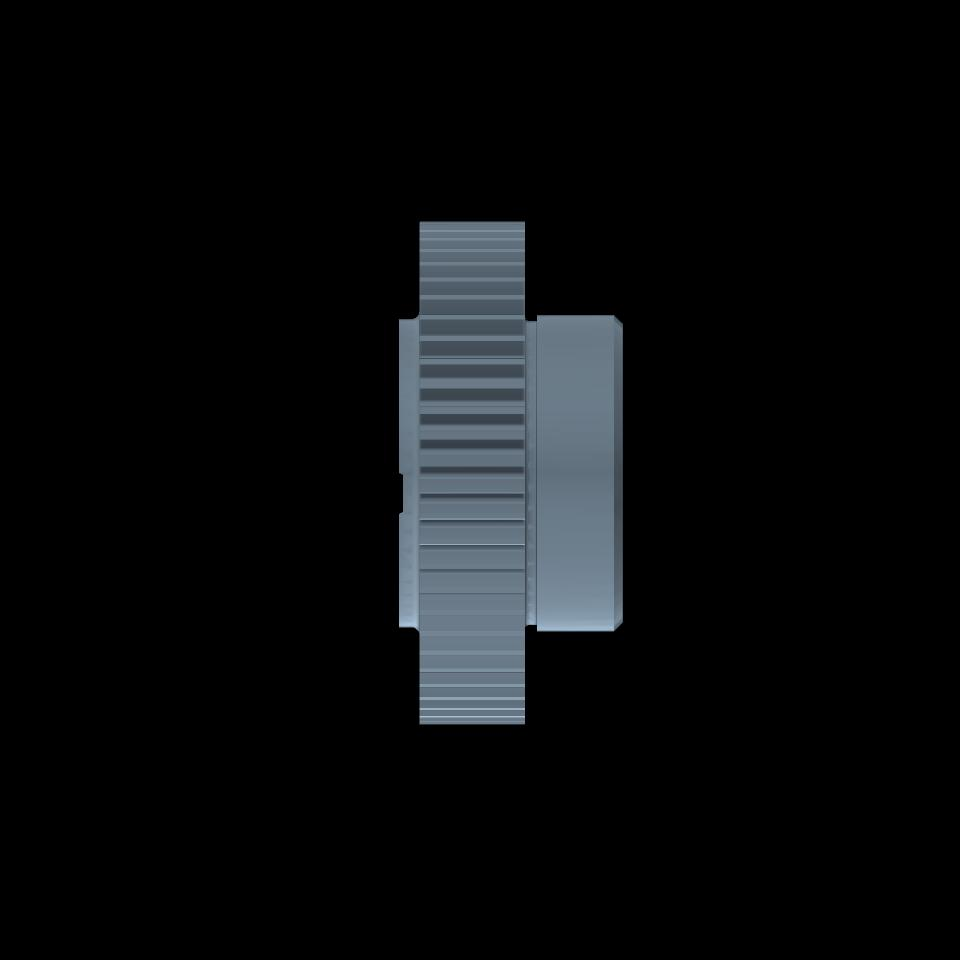Straight: (419, 222, 525, 724)
